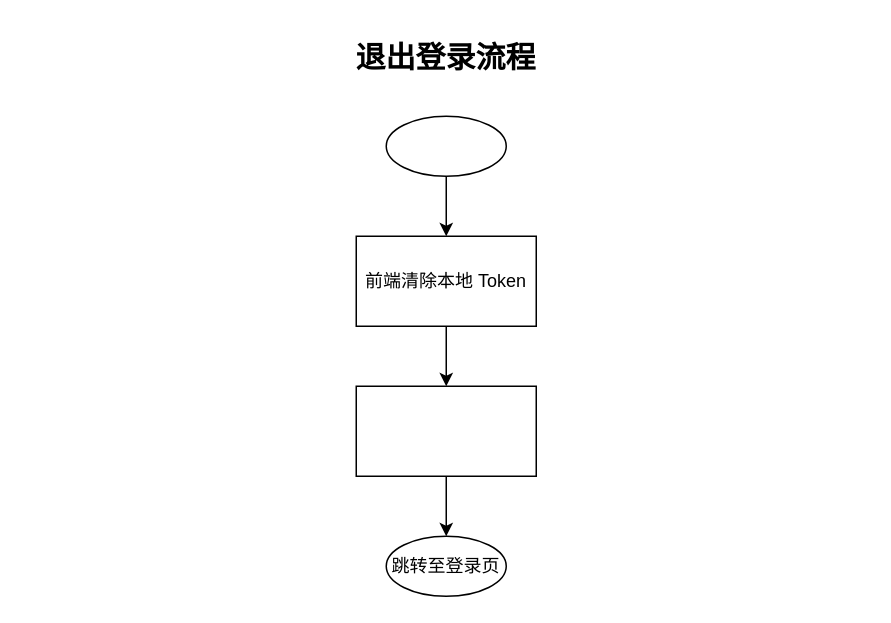
Some shapes in this 891 by 623 pixel diagram are drawn without their labels. Here are the shapes that lost their labels. From the top down, the centre of each, then its label:
the point at 445,145: 点击退出登录
the point at 445,430: 清除用户信息状态(Vuex/Pinia)
